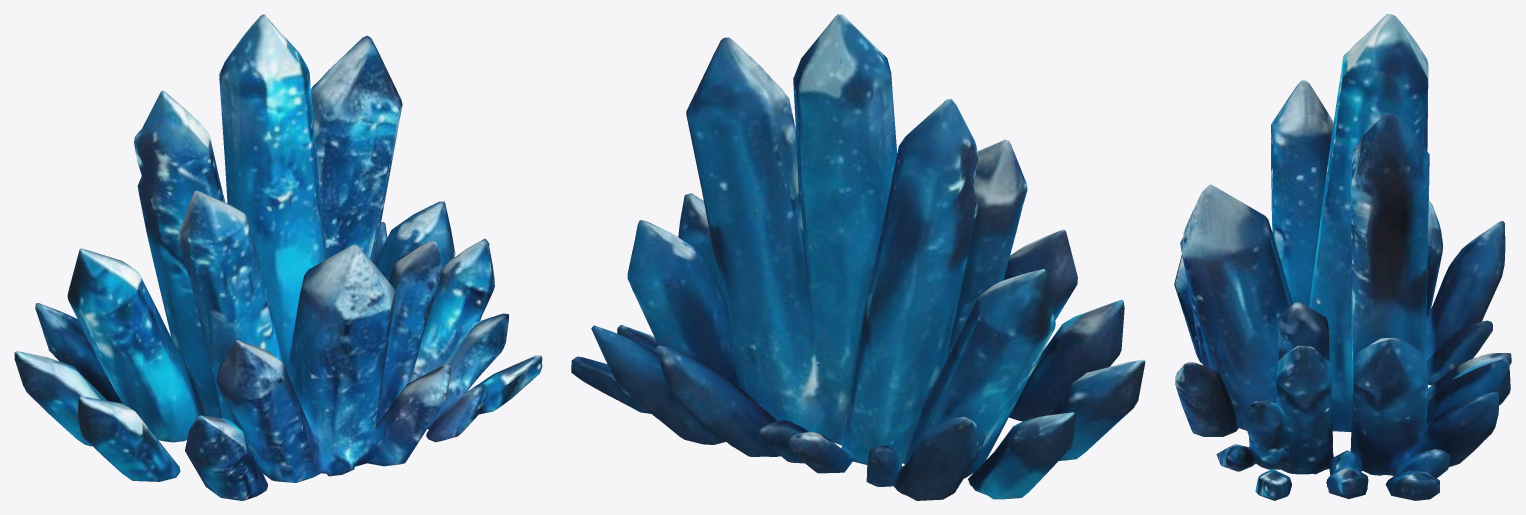
The model's file is env_cr5.glb.
3 views of the same model, side by side, from view 1: azimuth 30°, elevation 25°; view 2: azimuth 150°, elevation 25°; view 3: azimuth 270°, elevation 25° (orthographic). The views are drawn at different scales.
Parts seen in each view (by area): view 1: model_0; view 2: model_0; view 3: model_0.
Part boxes in pixels (left/top/right/bottom): model_0: left=14, top=14, right=542, bottom=500; model_0: left=571, top=14, right=1145, bottom=500; model_0: left=1174, top=14, right=1511, bottom=500.
Size of the model in its own units: 1.78 by 1.46 by 1.12.
1 material, 1 textured.
